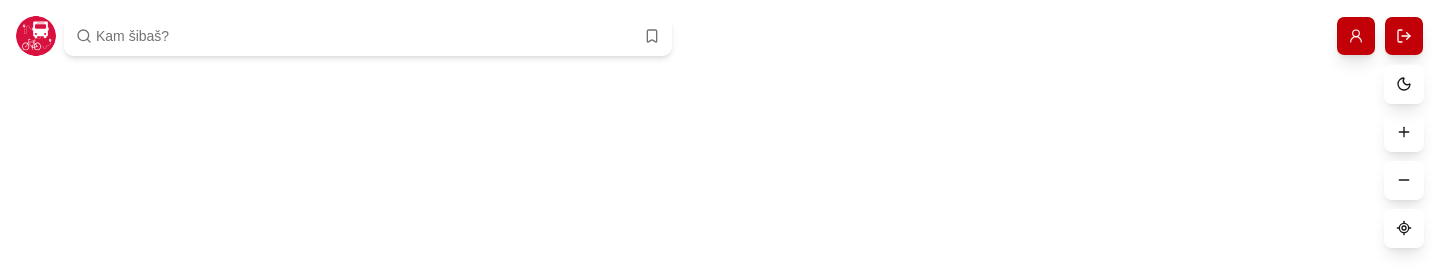
Test case: integracijski MainAppControlOverlay › shranjena pot iz dropdowna nastavi route in fallback labele
Step 1. Click the button named "Shranjene poti" → (652, 36), box x1=640 y1=24 x2=664 y2=48
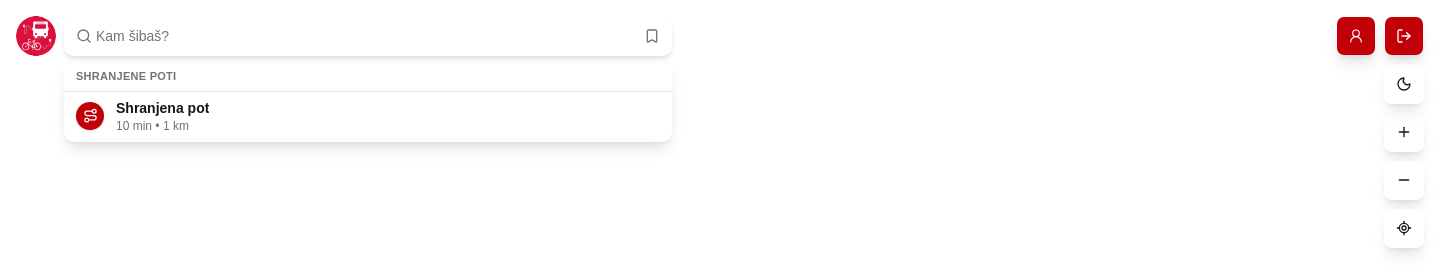
Step 2. Press the mouse on the text "Shranjena pot" → (163, 108), box x1=116 y1=100 x2=209 y2=117
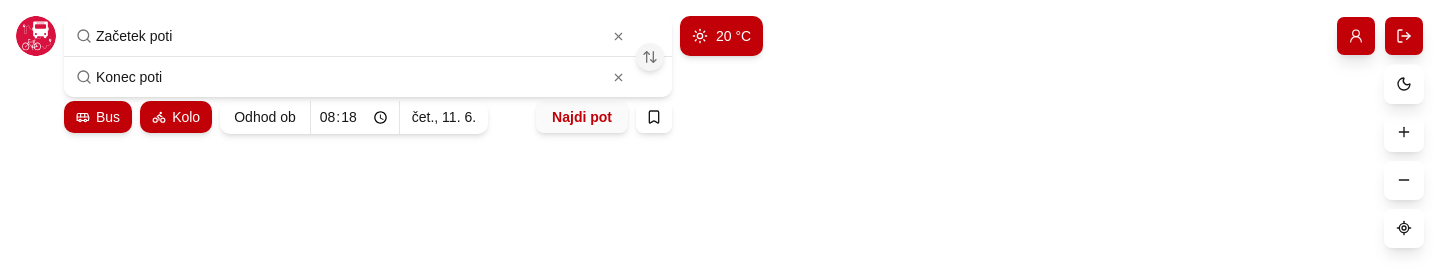
Expected: the field showing "Začetek poti" is shown, x1=64 y1=16 x2=608 y2=56
Expected: the field showing "Konec poti" is shown, x1=64 y1=57 x2=608 y2=97
